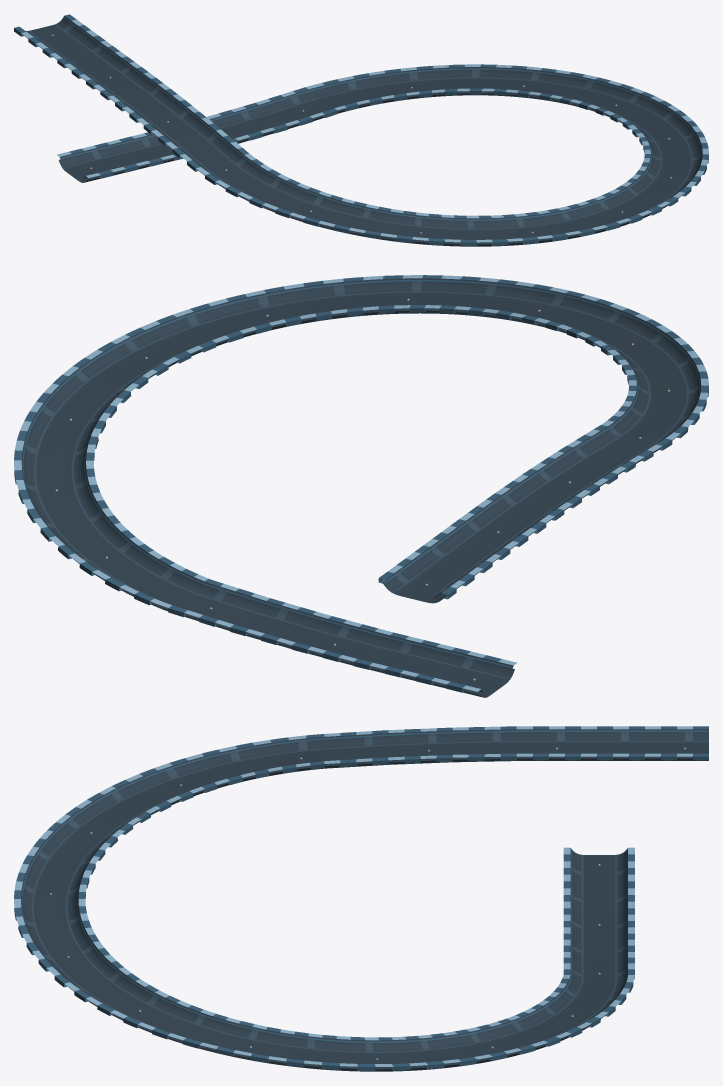
File: blue_block90_S_L_T3.fbx
The picture shows the model from 3 angles, top to bottom: view 1: azimuth 30°, elevation 25°; view 2: azimuth 150°, elevation 25°; view 3: azimuth 270°, elevation 25°; orthographic projection. The views are drawn at different scales.
Visible parts, largest first — view 1: blue_block90_S_L_T3; view 2: blue_block90_S_L_T3; view 3: blue_block90_S_L_T3.
Boxes of the visible parts, x1,y1,x2,y2 form: blue_block90_S_L_T3: (14,14,708,246); blue_block90_S_L_T3: (14,275,708,697); blue_block90_S_L_T3: (14,726,708,1071).
Bounding box in the file's own units: 9824 × 2227 × 10978.
